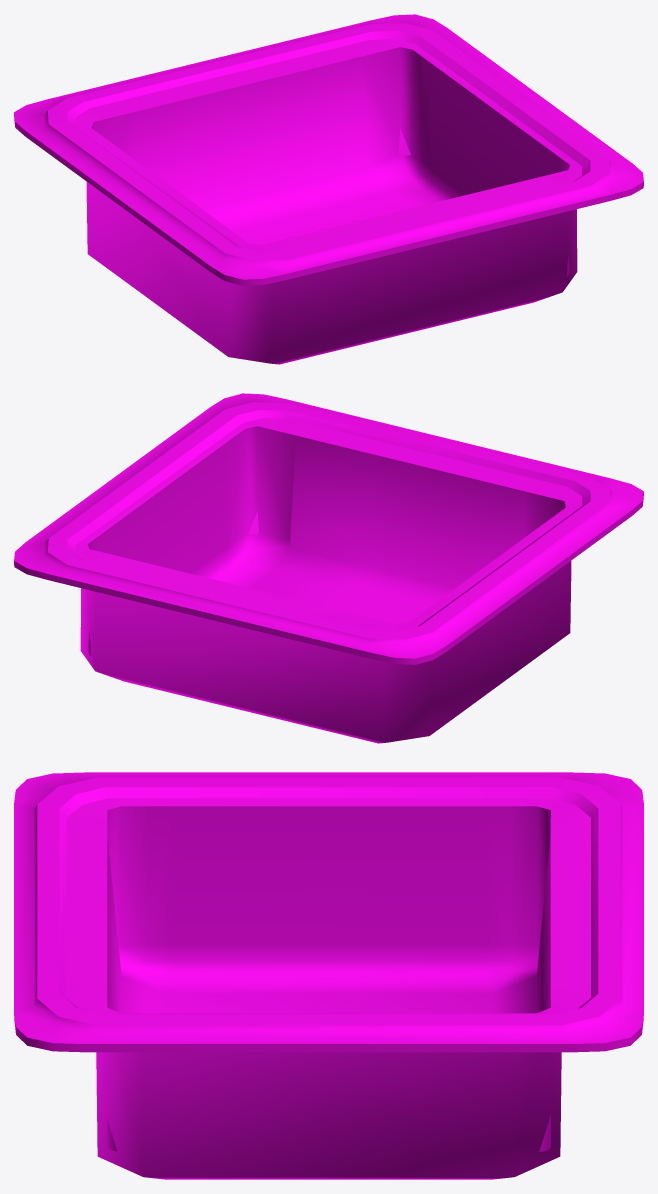
Rendered from package 02_meshCollider.fbx.
3 views of the same model, one above another, from view 1: azimuth 30°, elevation 25°; view 2: azimuth 150°, elevation 25°; view 3: azimuth 270°, elevation 25° (orthographic). The views are drawn at different scales.
Visible parts, largest first — view 1: foods_package_base_2_meshCollider; view 2: foods_package_base_2_meshCollider; view 3: foods_package_base_2_meshCollider.
Boxes of the visible parts, x1,y1,x2,y2 form: foods_package_base_2_meshCollider: [14, 14, 643, 364]; foods_package_base_2_meshCollider: [14, 393, 643, 743]; foods_package_base_2_meshCollider: [14, 772, 643, 1179].
Bounding box in the file's own units: 35.65 × 10.92 × 34.94.
